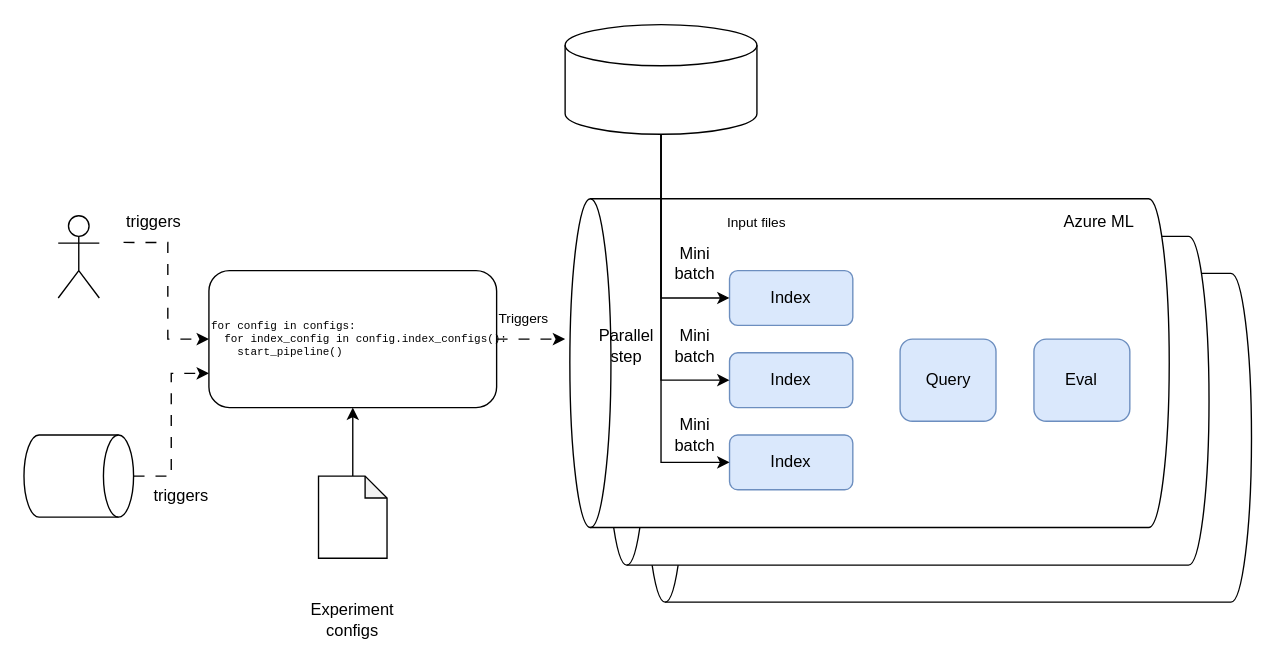
This 1275x663 diagram has some shape labels left out. The shapes that lost their labels are listed below. From the top down, each one's centre as x and y in pixels, then its label:
the point at 660,78: Dataset
the point at 78,256: Developer
the point at 78,475: automation
